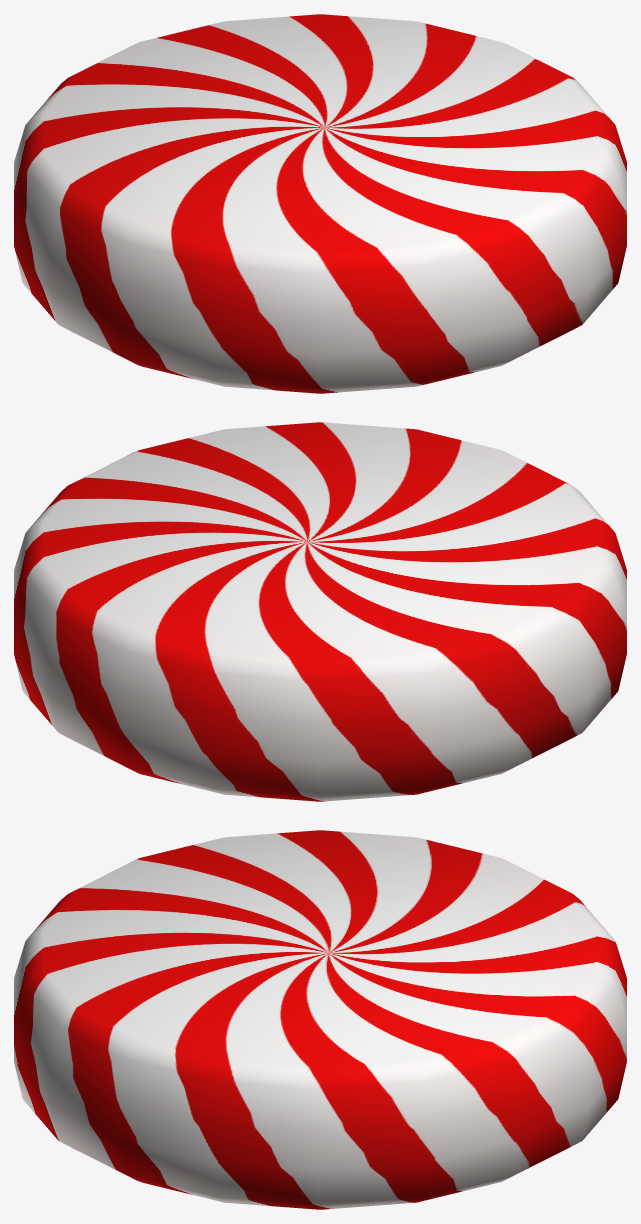
Rendered from respawn.FBX.
3 views of the same model, one above another, from view 1: azimuth 30°, elevation 25°; view 2: azimuth 150°, elevation 25°; view 3: azimuth 270°, elevation 25° (orthographic).
Parts seen in each view (by area): view 1: Cylinder001; view 2: Cylinder001; view 3: Cylinder001.
Part boxes in pixels (bbox=[...]): Cylinder001: bbox=[14, 14, 626, 393]; Cylinder001: bbox=[14, 422, 626, 801]; Cylinder001: bbox=[14, 830, 626, 1209].
Bounding box in the file's own units: 11.51 × 2.9 × 11.34.
